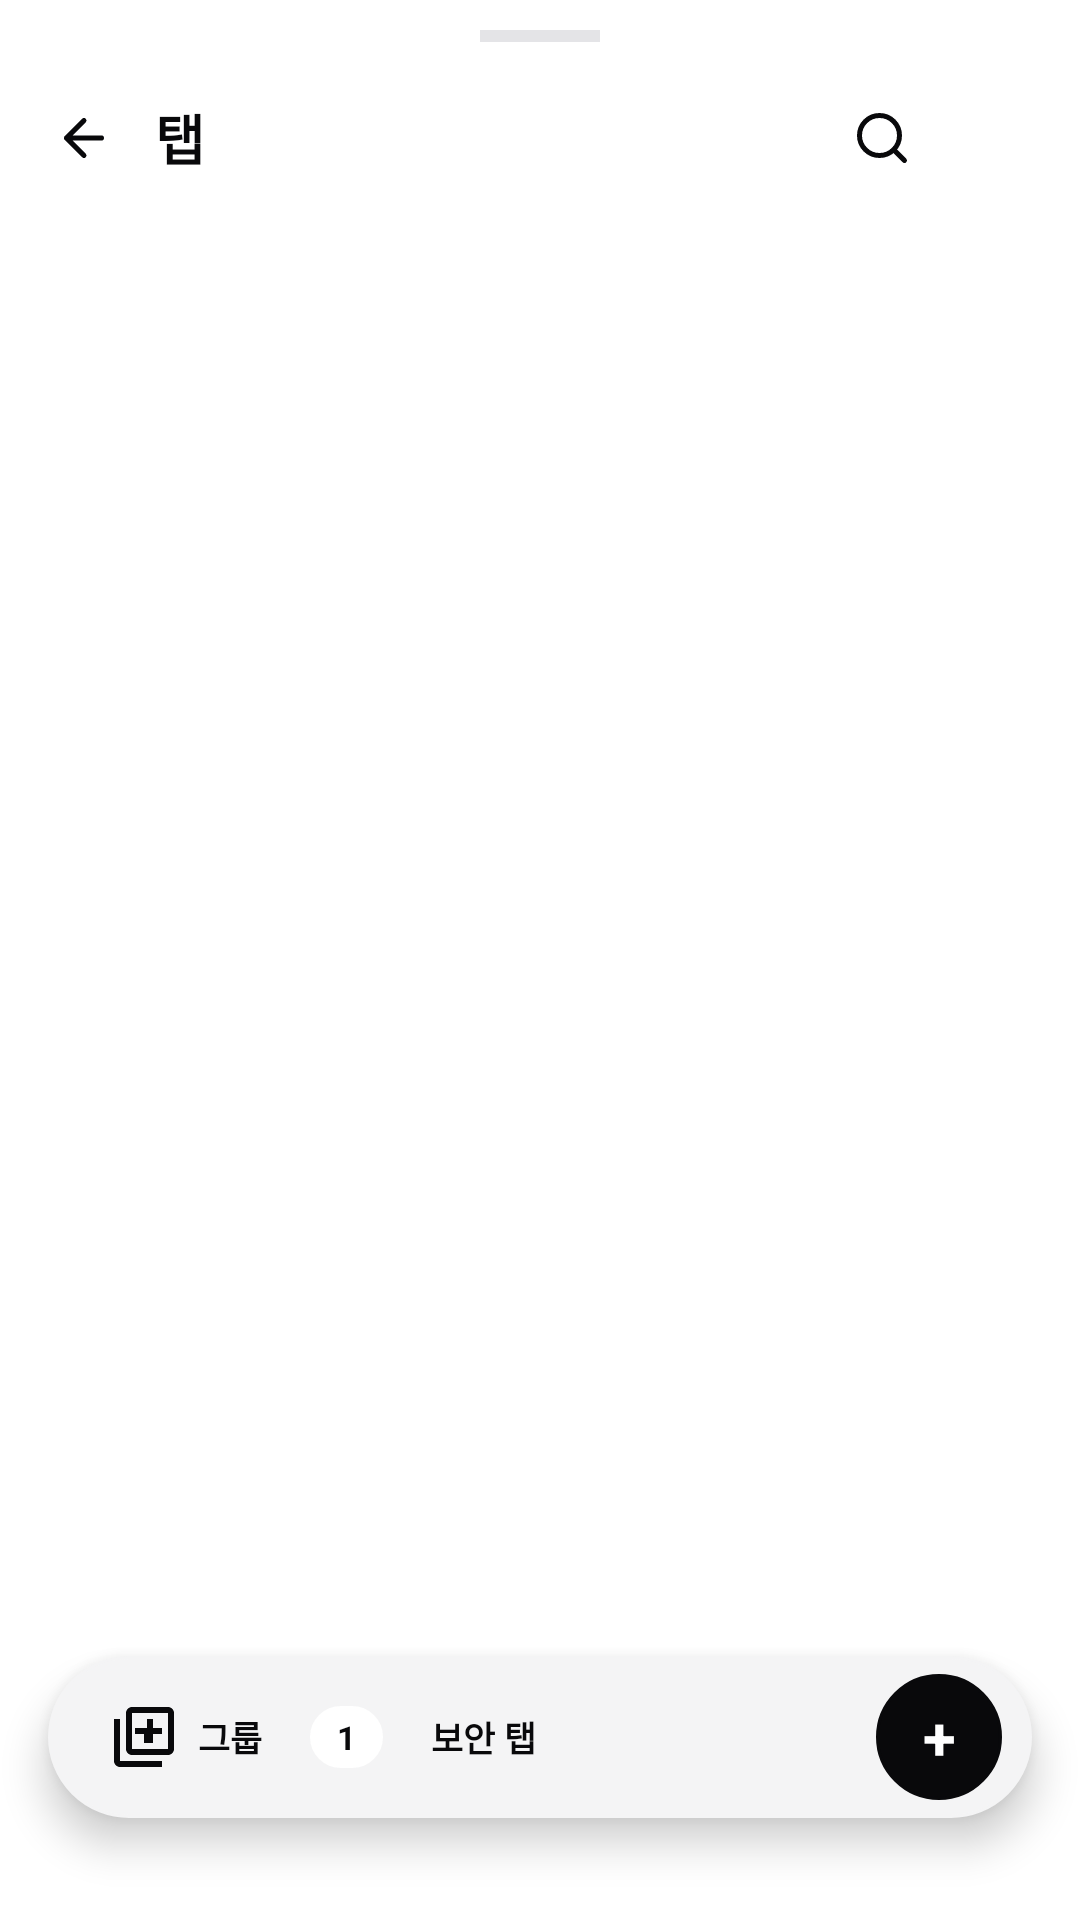

Point at icon controls on the screen. Image size 1080 x 1920, points as point (x, y).
탭 검색: point (882, 138)
